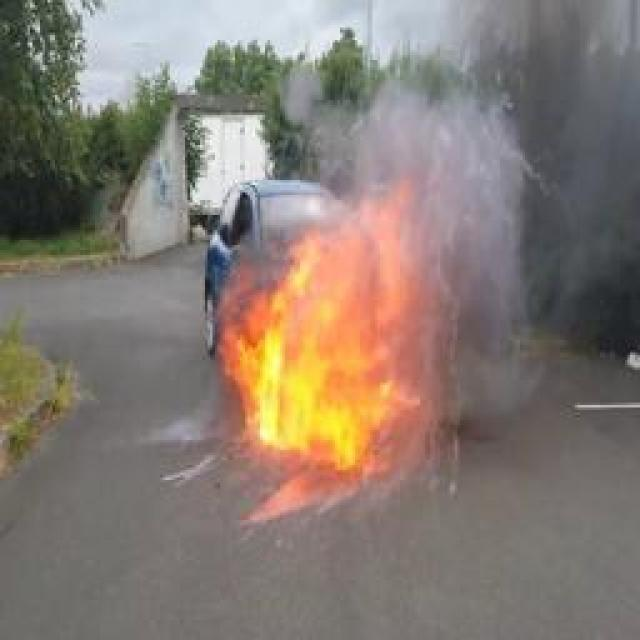Fire: (222, 184, 428, 472)
